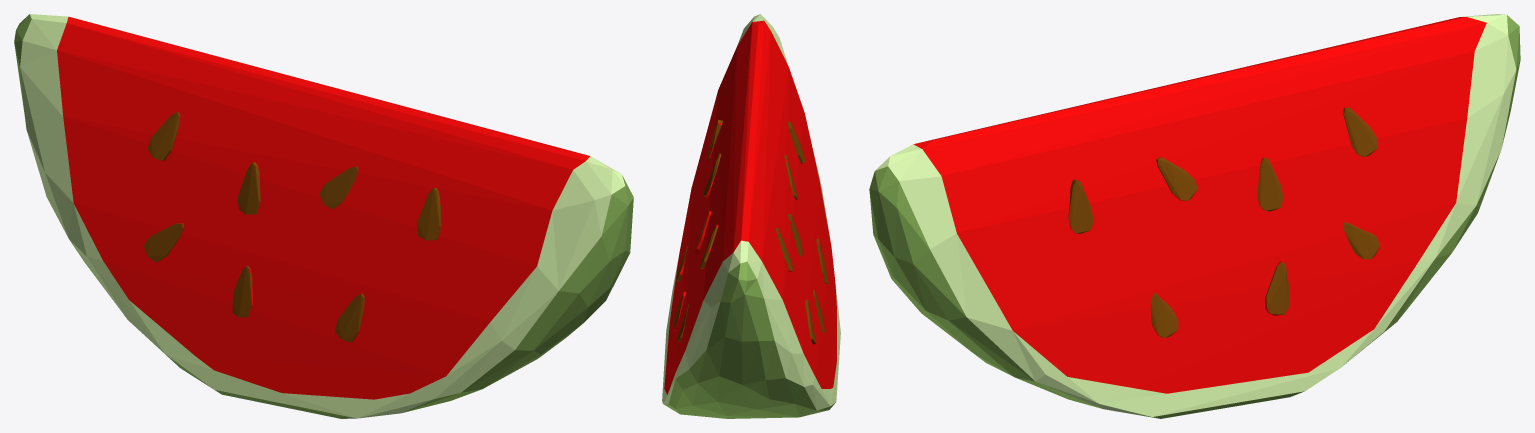
Rendered from cut_watermelon.glb.
3 views of the same model, side by side, from view 1: azimuth 30°, elevation 25°; view 2: azimuth 150°, elevation 25°; view 3: azimuth 270°, elevation 25° (orthographic). The views are drawn at different scales.
Visible parts, largest first — view 1: Cut_WaterMElon; view 2: Cut_WaterMElon; view 3: Cut_WaterMElon.
Boxes of the visible parts, x1,y1,x2,y2 form: Cut_WaterMElon: (14, 14, 633, 418); Cut_WaterMElon: (662, 14, 840, 418); Cut_WaterMElon: (869, 14, 1520, 418).
Size of the model in its own units: 0.5853 by 0.5012 by 0.984.
